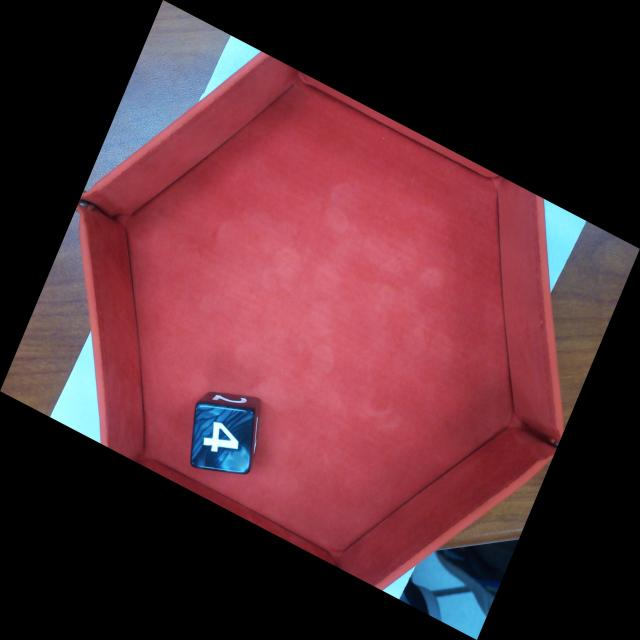dice: (189, 397, 254, 478)
